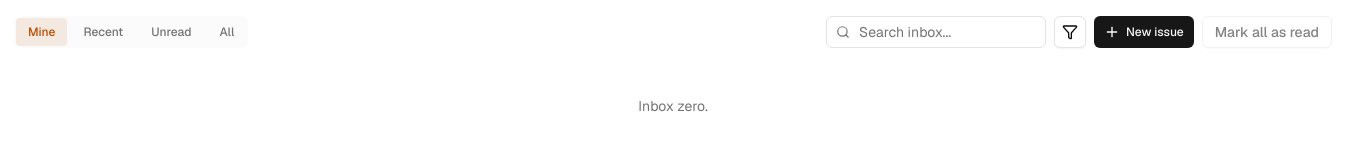
InboxPage › clicking the unread tab swaps the empty-state copy
What coordinates should you click on to do the following:
click the tab "Unread"
I would click on:
 (171, 32)
Its box is [139,18,204,46].
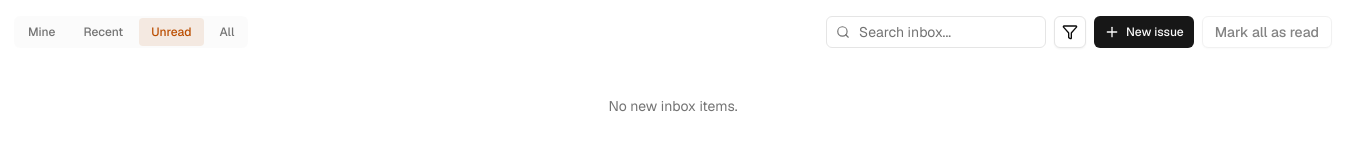
Expected: the text "No new inbox items." is shown, [608,97,738,115]
